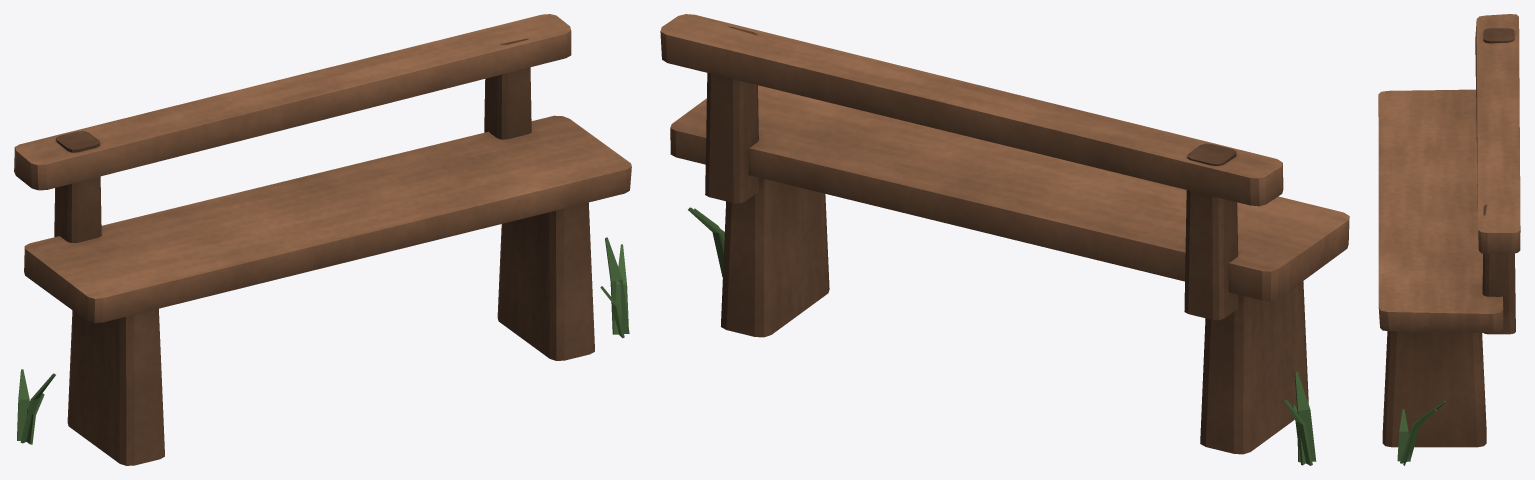
File: bench.glb
3 renders of one model, left to right at view 1: azimuth 30°, elevation 25°; view 2: azimuth 150°, elevation 25°; view 3: azimuth 270°, elevation 25°, orthographic. The views are drawn at different scales.
Parts seen in each view (by area): view 1: Bench, v_bench_f_grass_deep; view 2: Bench, v_bench_f_grass_deep; view 3: Bench, v_bench_f_grass_deep.
Boxes of the visible parts, box(x1,y1,x2,y2) form: Bench: box(14, 14, 631, 465); v_bench_f_grass_deep: box(17, 237, 629, 444); Bench: box(660, 14, 1349, 454); v_bench_f_grass_deep: box(688, 207, 1316, 465); Bench: box(1378, 14, 1520, 447); v_bench_f_grass_deep: box(1397, 400, 1445, 465).
Size of the model in its own units: 1.85 by 0.8268 by 0.4639.
Materials: 2 (1 with a texture image).
